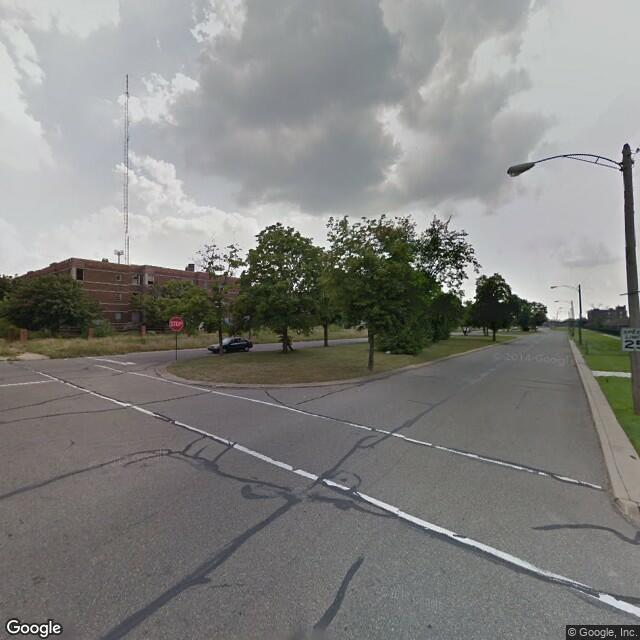litter: (603, 377, 613, 384), (386, 350, 391, 354)
